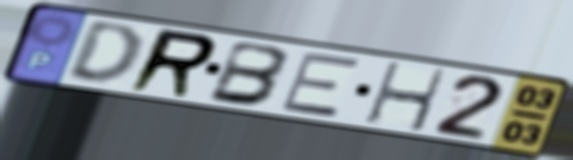2: (431, 74, 509, 143)
B: (204, 38, 294, 108)
D: (62, 21, 143, 88)
E: (277, 51, 363, 120)
H: (362, 60, 450, 135)
R: (123, 26, 222, 101)
